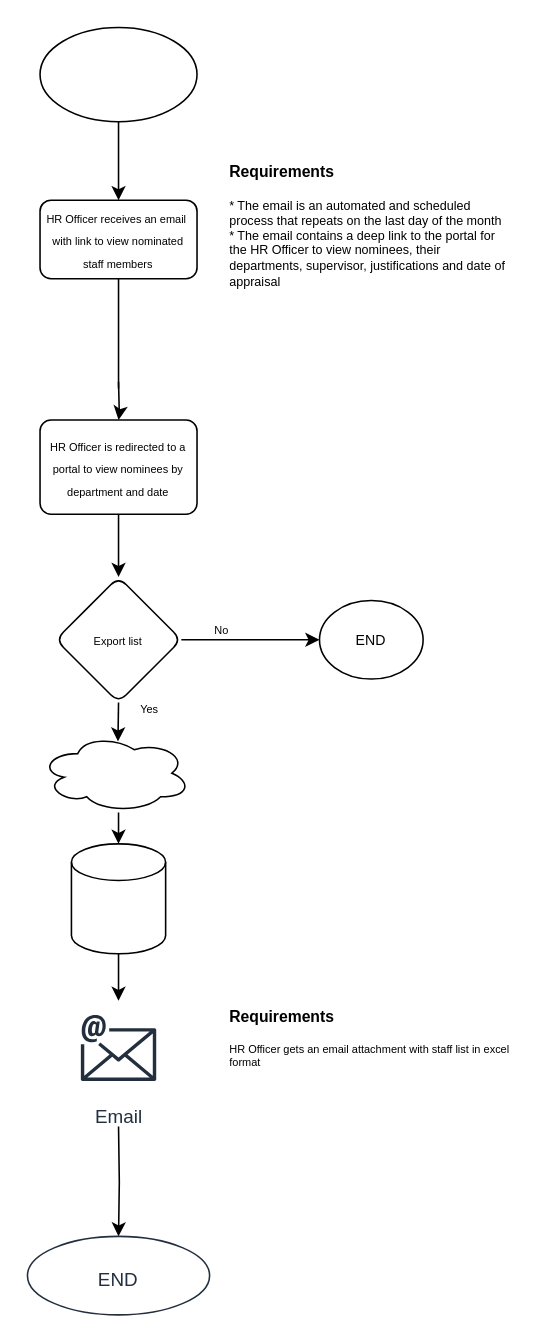
Some shapes in this 548 by 1342 pixel diagram are drawn without their labels. Each missing label, with the centre of its shape:
"Cloud" goes at pixel 114 772.
"Data is retrieved from Sharepoint; Telemetry data is recorded from user" goes at pixel 118 898.
"START" goes at pixel 117 74.
